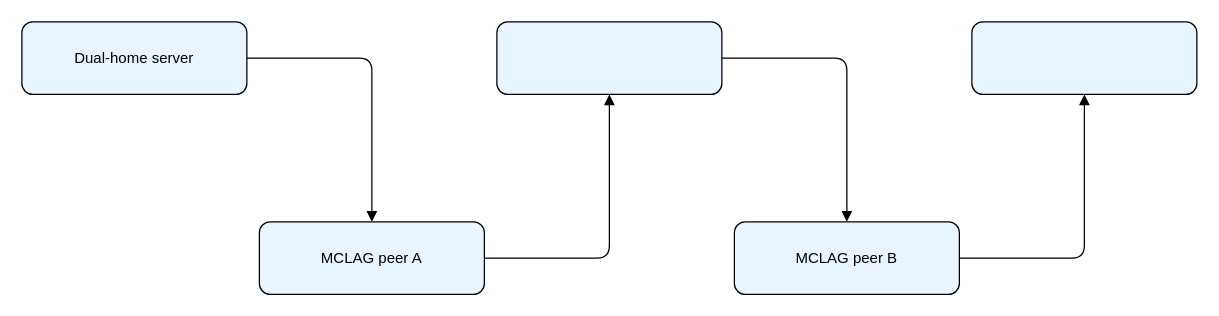
The diagram is 1219 pixels wide and 316 high, and some of its shapes have lost their labels. Each missing label, with the box of its shape:
Dormant election: (971, 21, 1197, 94)
ICL failure: (496, 21, 722, 94)
